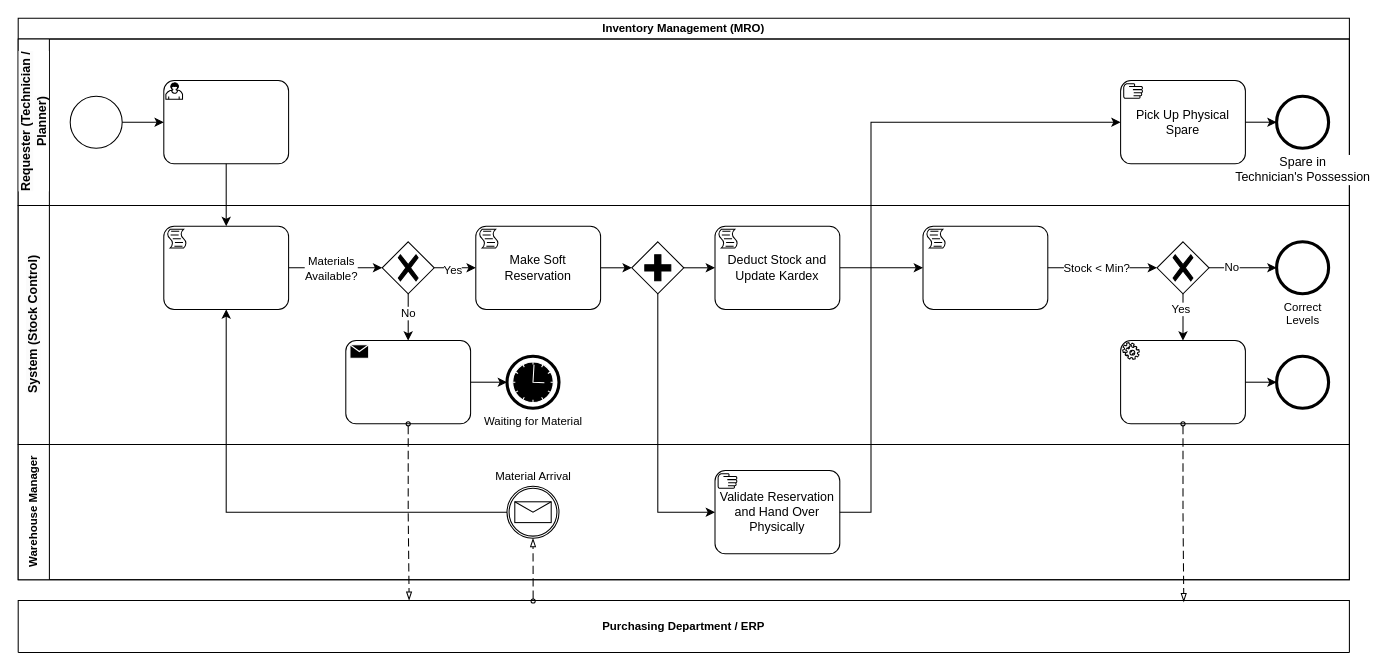
Image size: 1388x671. Some labels were removed from this diagram. The centre of each missing label's shape, as x and y in pixels:
"Generate Automatic Purchase Request" belongs at point (1182, 382).
"Need for Spares" belongs at point (95, 121).
"Notify Shortage and Initiate Purchase" belongs at point (408, 382).
"Request Material (Manual or via WO)" belongs at point (226, 122).
"Request Sent" belongs at point (1302, 381).
"Verify Available Quantity (Available - Reserved)" belongs at point (226, 267).
"Verify Reorder Point" belongs at point (985, 267).
